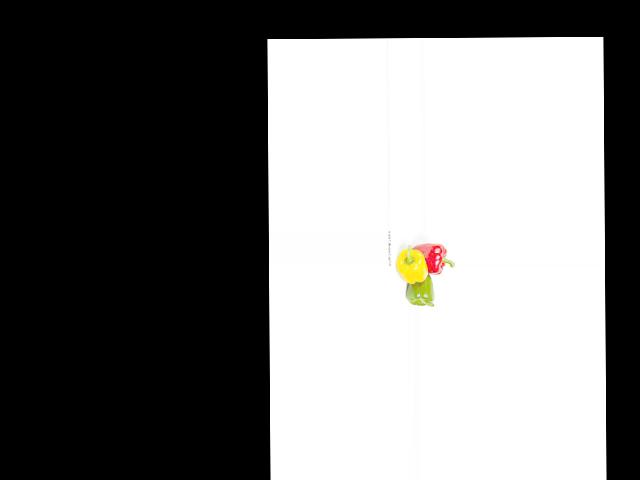bell_pepper: (414, 240, 454, 275)
